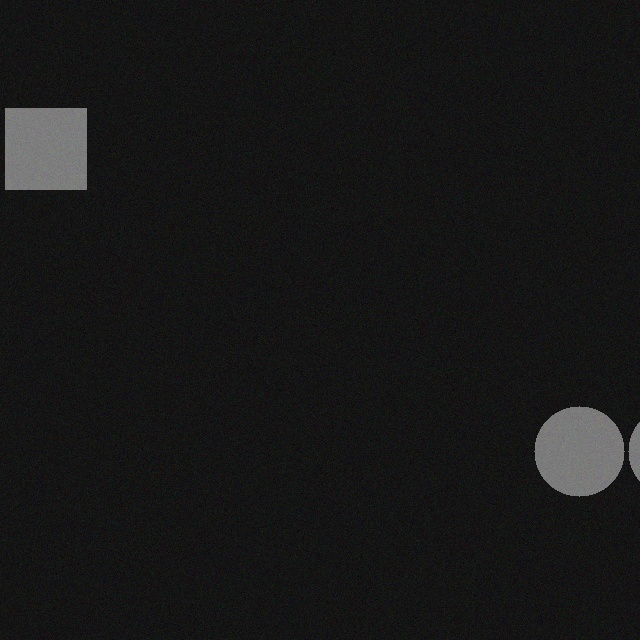circle: (547, 400, 637, 490)
square: (18, 102, 99, 183)
